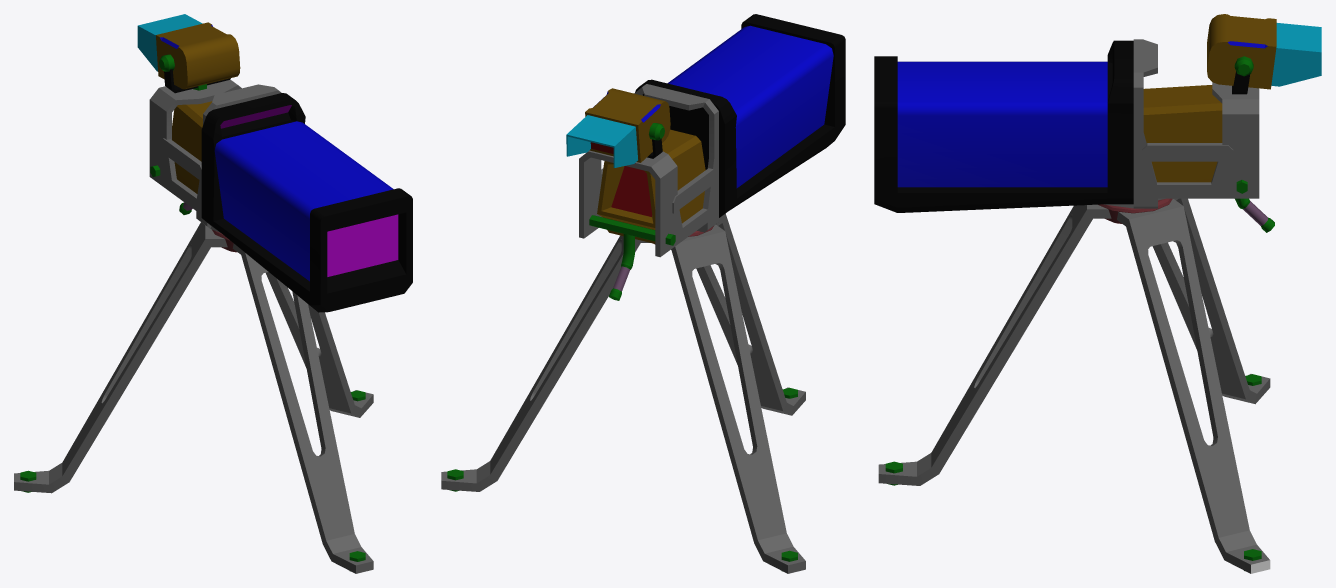
Rendered from camera.fbx.
3 views of the same model, side by side, from view 1: azimuth 30°, elevation 25°; view 2: azimuth 150°, elevation 25°; view 3: azimuth 270°, elevation 25° (orthographic). The views are drawn at different scales.
Visible parts, largest first — view 1: full camera; view 2: full camera; view 3: full camera.
Part boxes in pixels (x1=…): full camera: x1=14, y1=14, x2=412, y2=573; full camera: x1=441, y1=14, x2=845, y2=573; full camera: x1=874, y1=14, x2=1321, y2=573.
Size of the model in its own units: 390 by 432 by 387.
